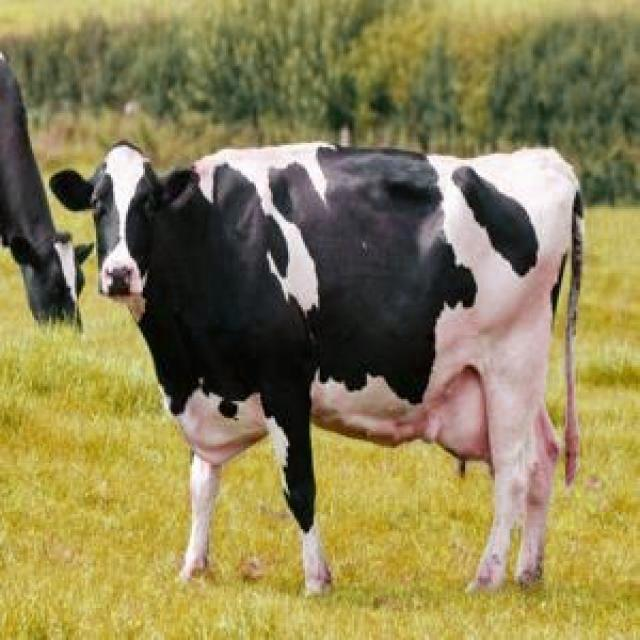cow: (51, 142, 582, 592), (0, 54, 92, 326)
